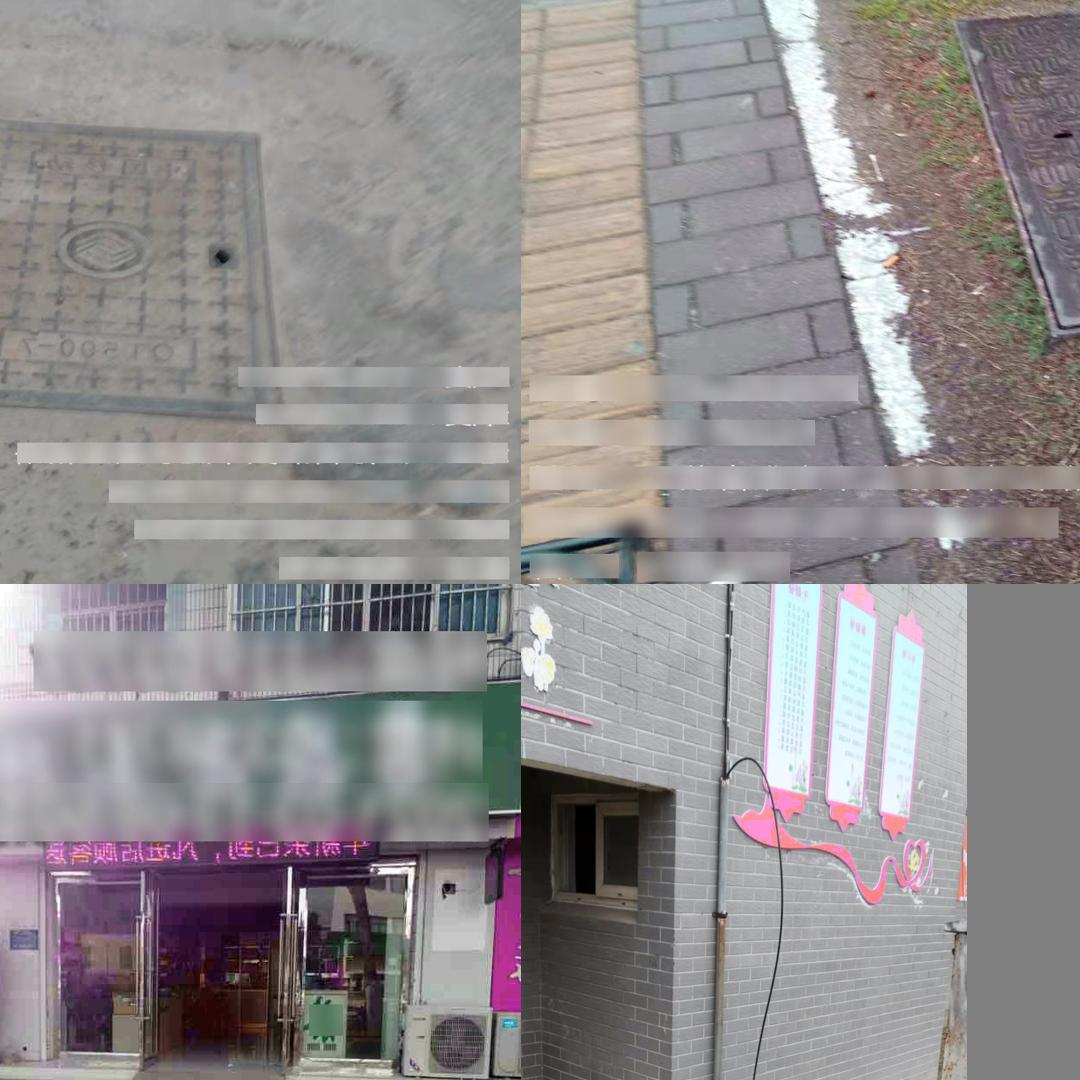good: (0, 116, 313, 418), (951, 4, 1080, 334)
